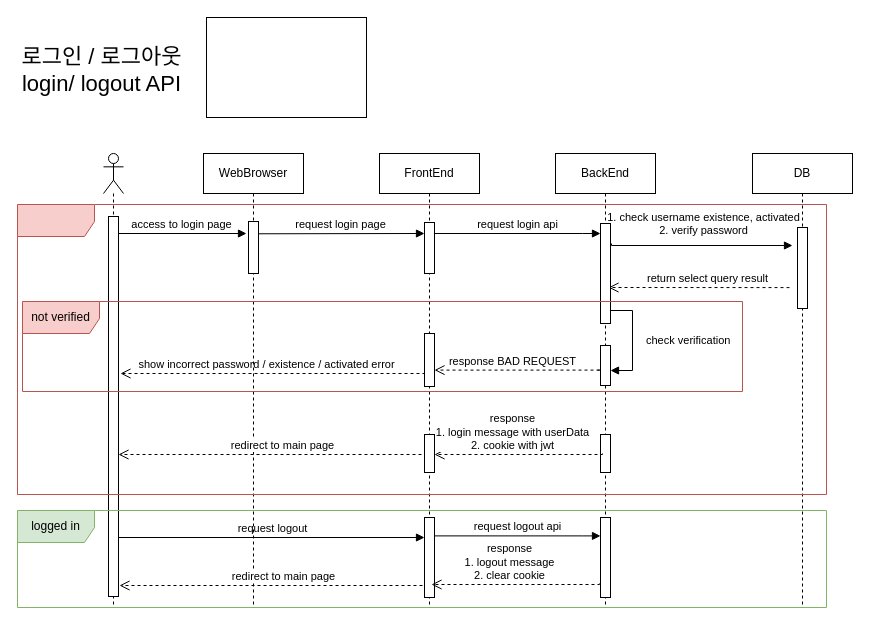
This 870x625 diagram has some shape labels left out. The box of each missing label's shape, as (x1, y1, x2, y2) in pixels:
not logged in: (16, 204, 826, 494)
user:string username = admin1 password = admin123!@: (206, 16, 366, 118)
